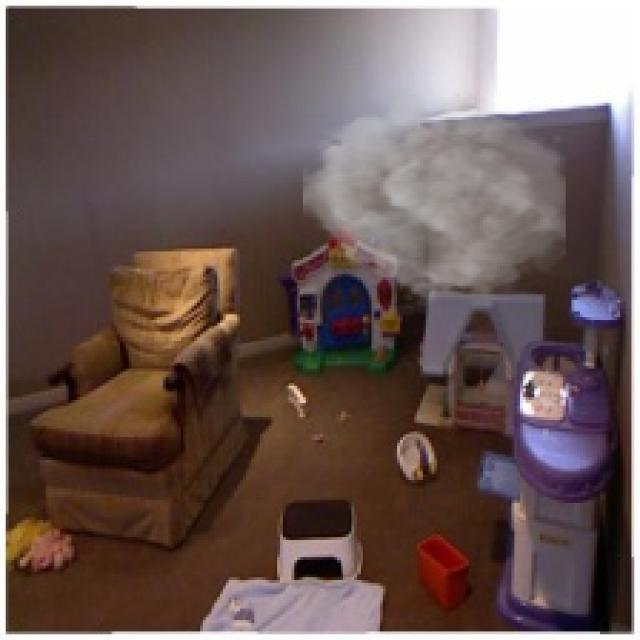smoke: (303, 89, 566, 308)
